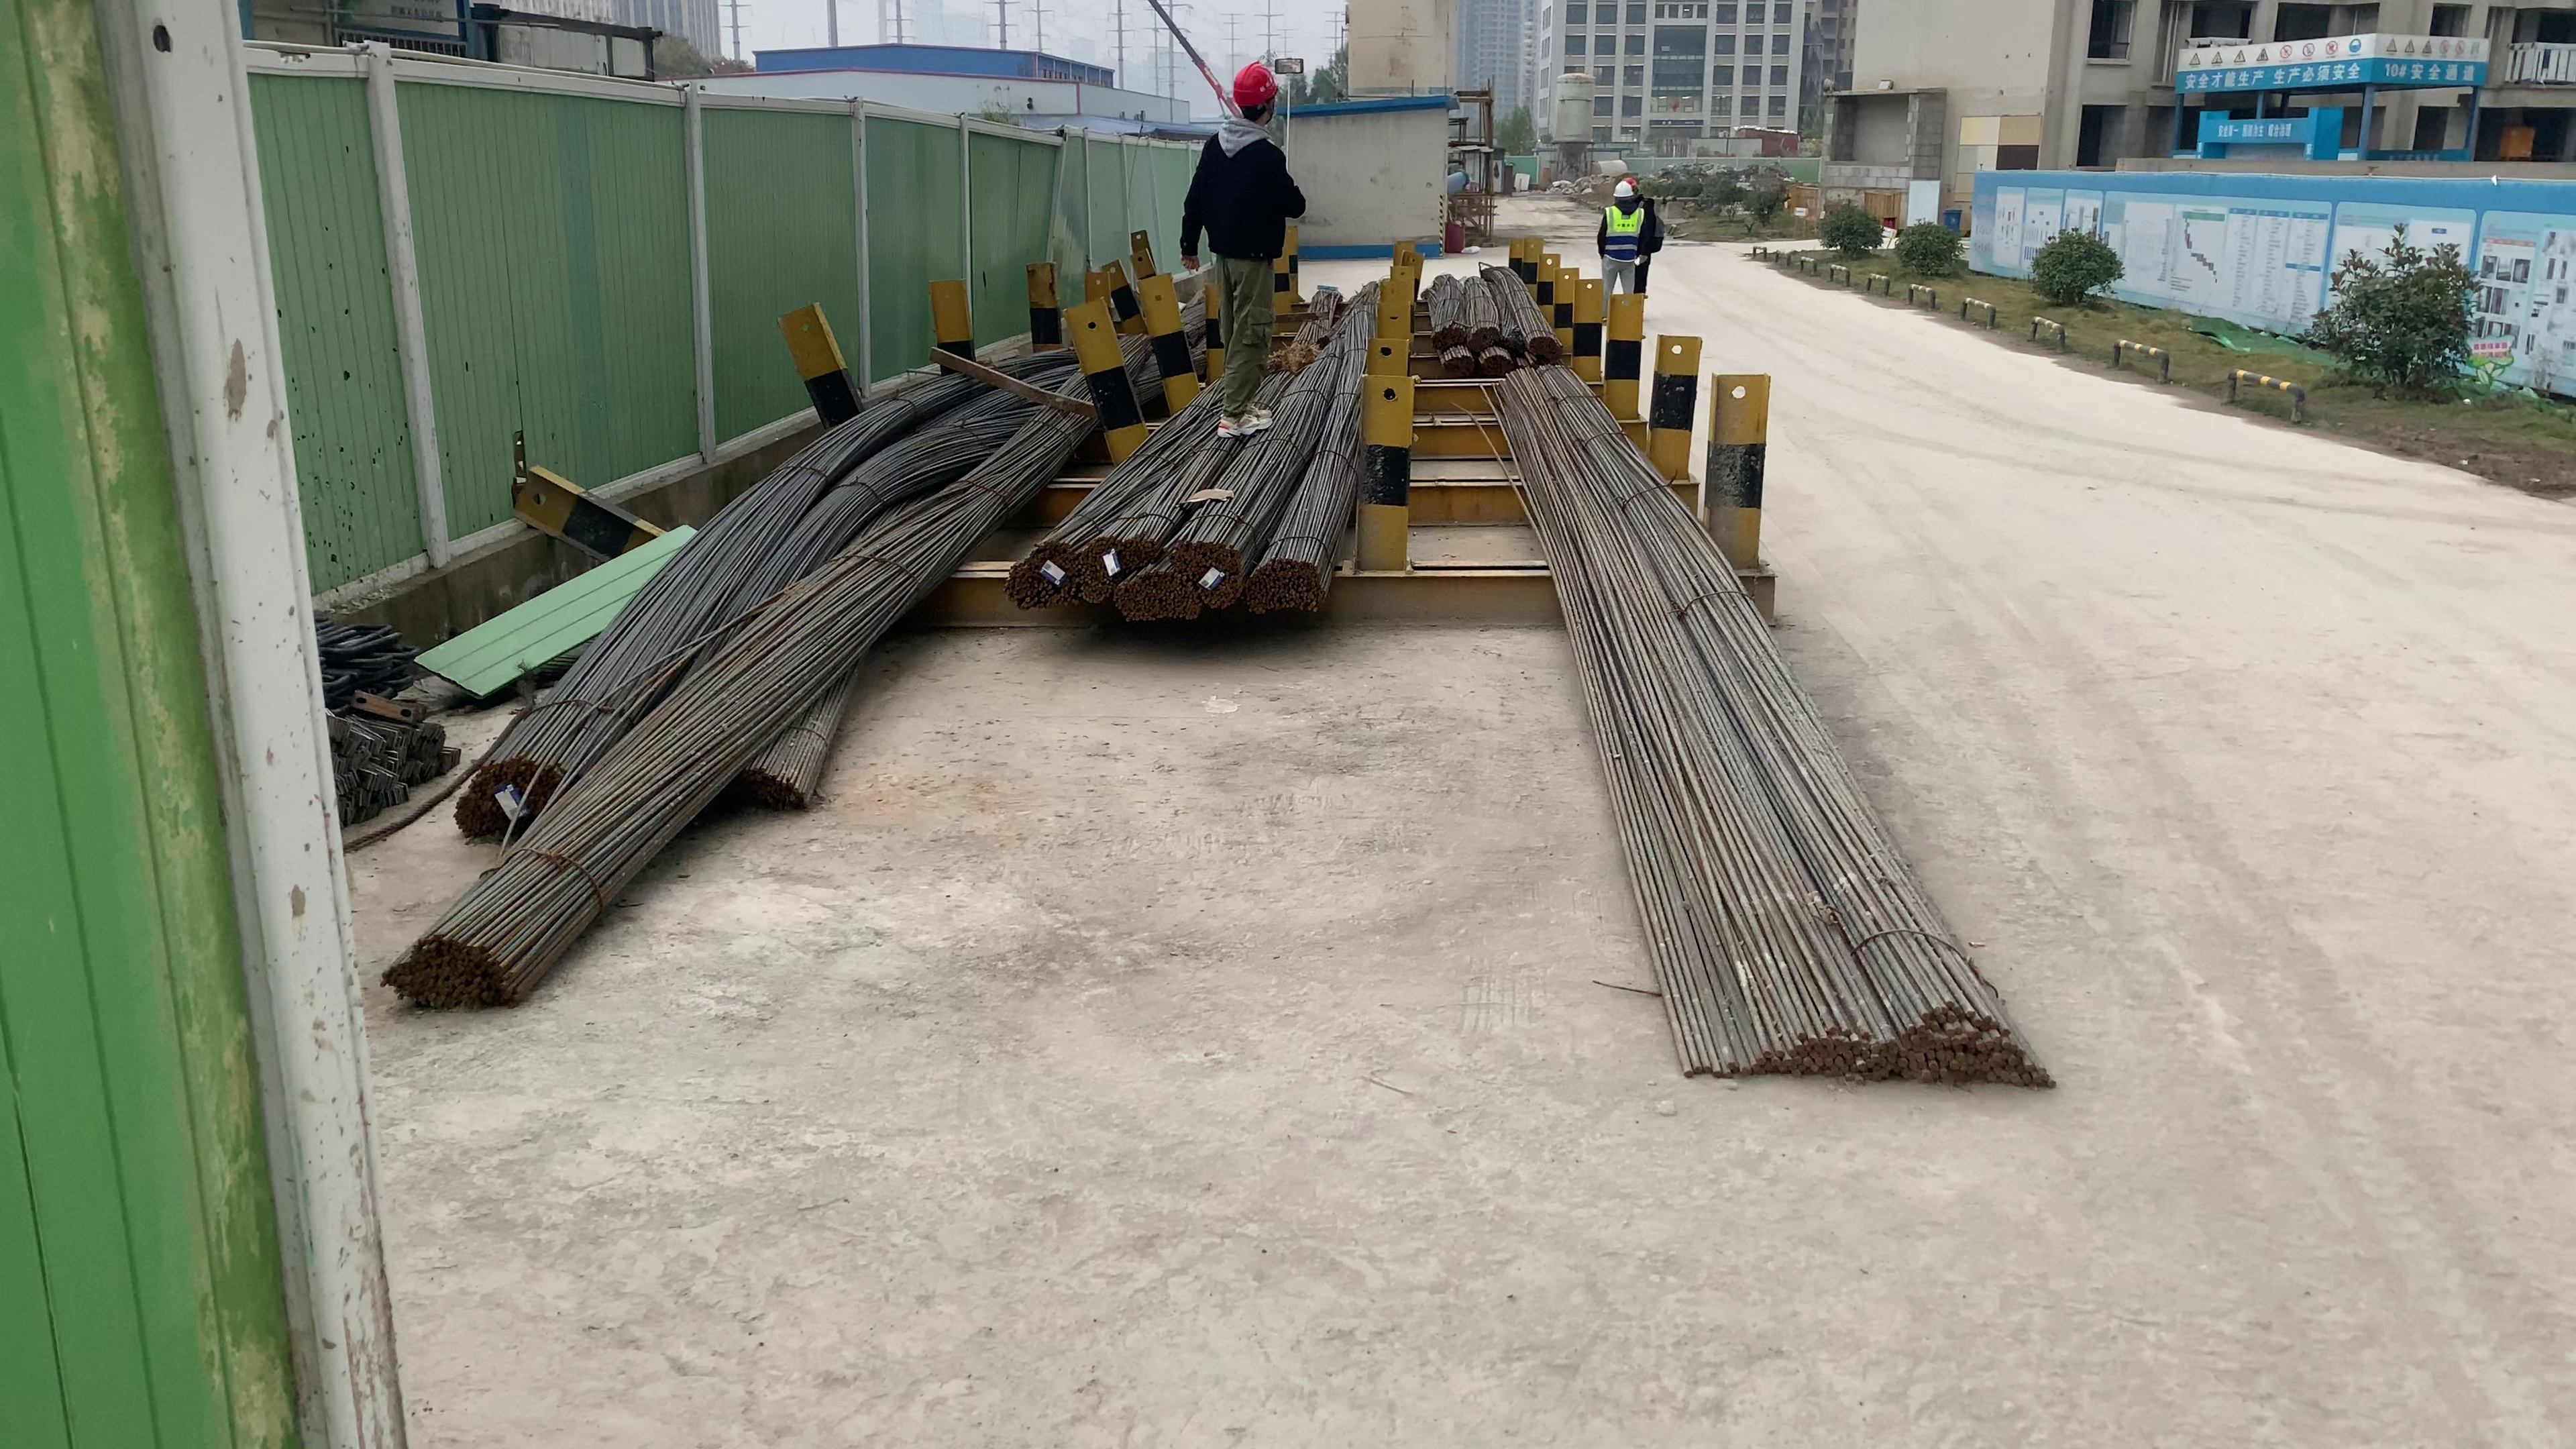rebar: (1684, 1024, 2040, 1092), (377, 922, 536, 1010), (456, 747, 559, 833), (1162, 534, 1242, 607), (1000, 540, 1074, 607), (1079, 531, 1145, 602), (1113, 573, 1201, 625), (718, 766, 812, 814), (1251, 559, 1323, 614), (1477, 350, 1513, 377), (1527, 331, 1562, 354), (1430, 324, 1465, 343), (1468, 324, 1499, 341), (1444, 349, 1472, 366)
